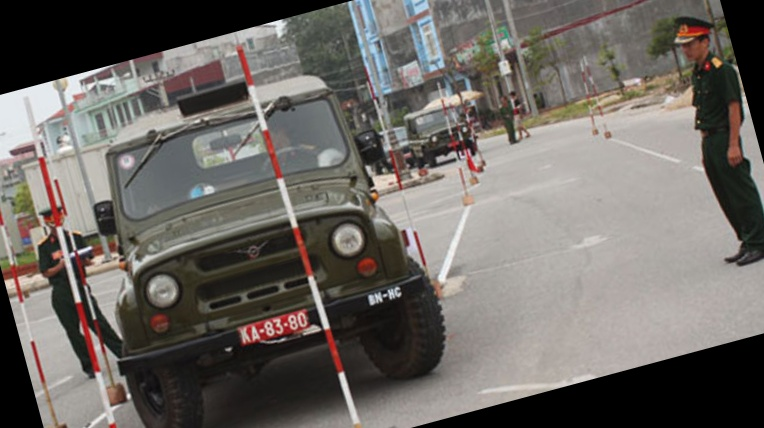plate: (233, 307, 314, 356)
